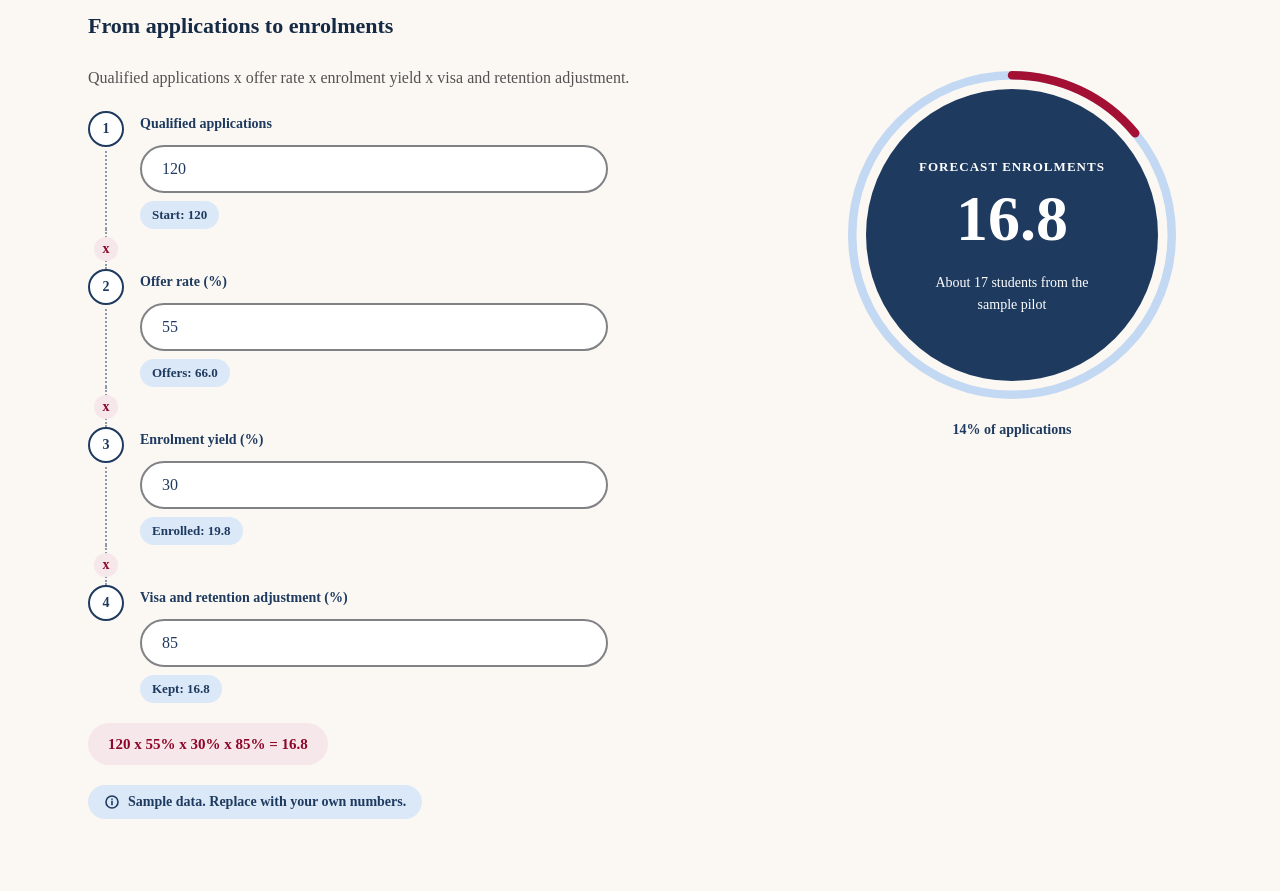
Test: AgentStrategy › forecast › clamps percents above 100 and treats empty input as zero
(page scrolled)
Replace the text in the number field labelled "Enrolment yield (%)" with "400" at (374, 485), box [140,461,608,509]
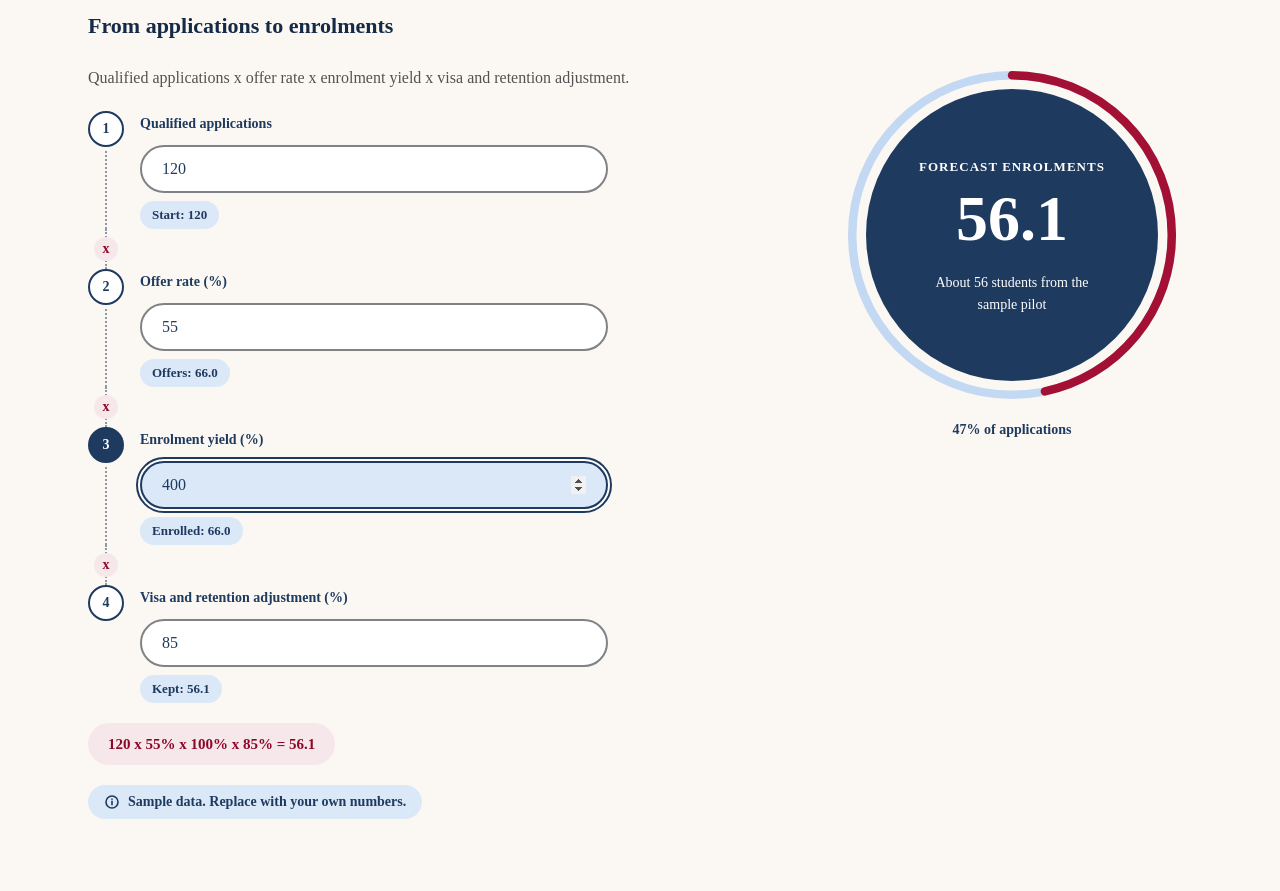
Expected: the text "Enrolled: 66.0" is shown, [140,517,242,545]
Expected: the text "120 x 55% x 100% x 85% = 56.1" is shown, [88,723,335,765]
Clear the number field labelled "Qualified applications" at (374, 169), box [140,145,608,193]
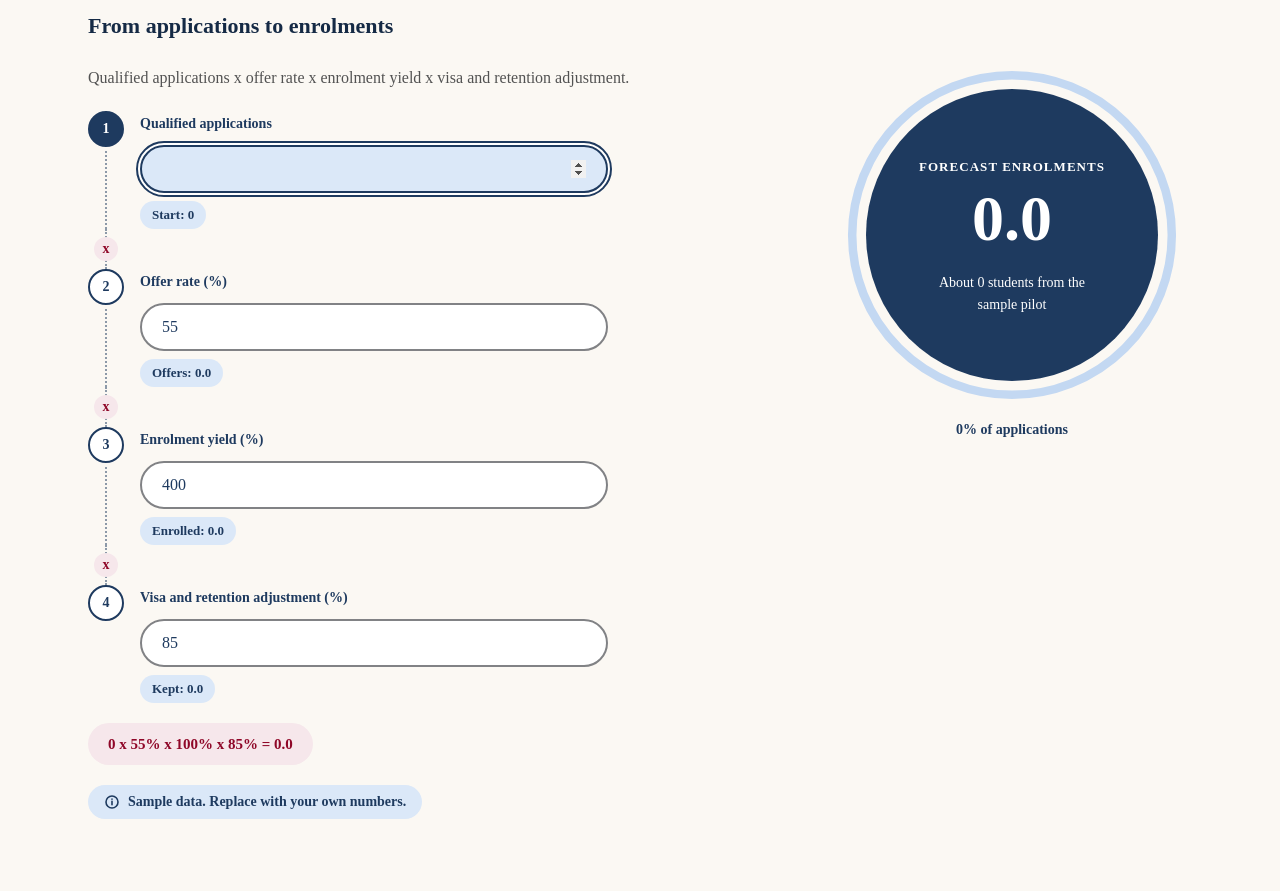
Expected: the text "Start: 0" is shown, [140,201,206,229]
Expected: the text "About 0 students from the sample pilot" is shown, [939,275,1085,312]
